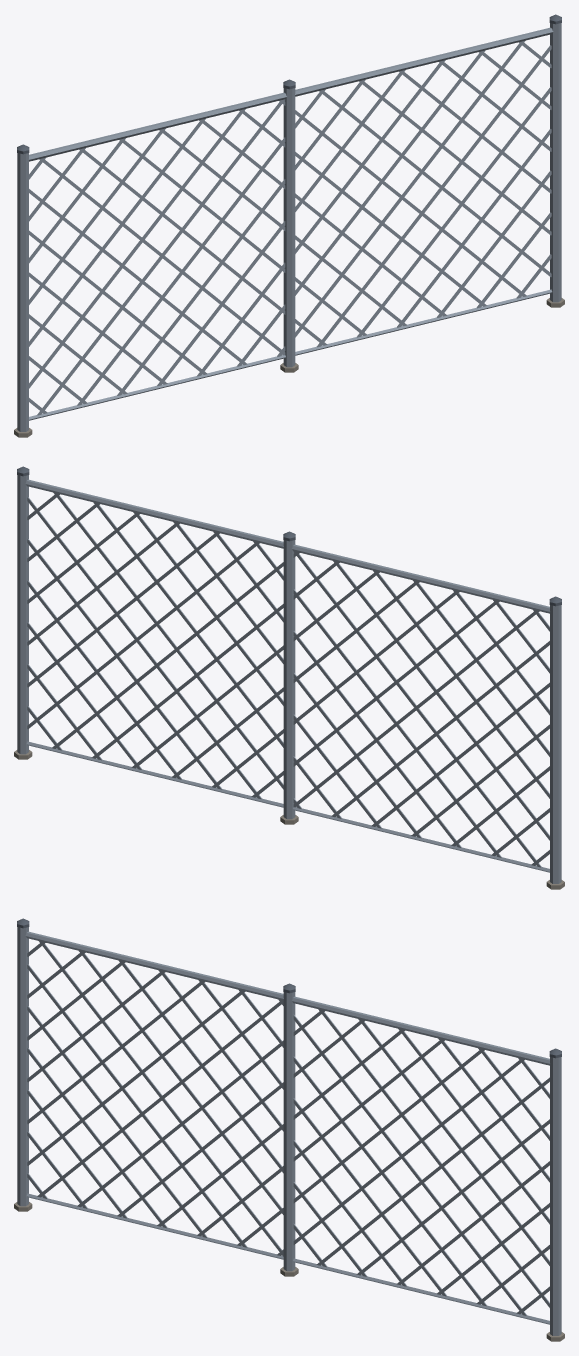
The model's file is fence_chainlink.glb.
3 renders of one model, top to bottom at view 1: azimuth 30°, elevation 25°; view 2: azimuth 150°, elevation 25°; view 3: azimuth 330°, elevation 25°, orthographic.
Visible parts, largest first — view 1: fence_chainlink; view 2: fence_chainlink; view 3: fence_chainlink.
Part boxes in pixels (box(x1,y1,x2,y2)): fence_chainlink: box(14, 14, 564, 437); fence_chainlink: box(14, 466, 564, 889); fence_chainlink: box(14, 918, 564, 1341).
Size of the model in its own units: 4.1 by 2.08 by 0.12.
